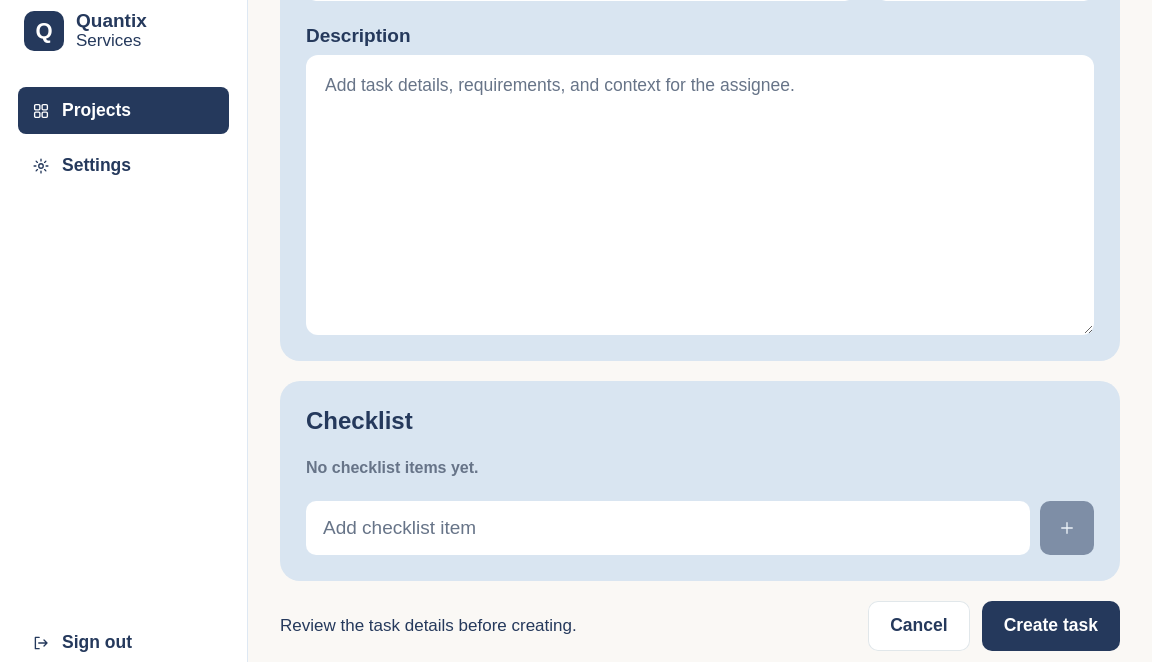
Test: Creating tasks › rejects missing required fields
(page scrolled)
Click the button "Create task" at (1051, 626), box top-left (982, 601), bottom-right (1120, 651)
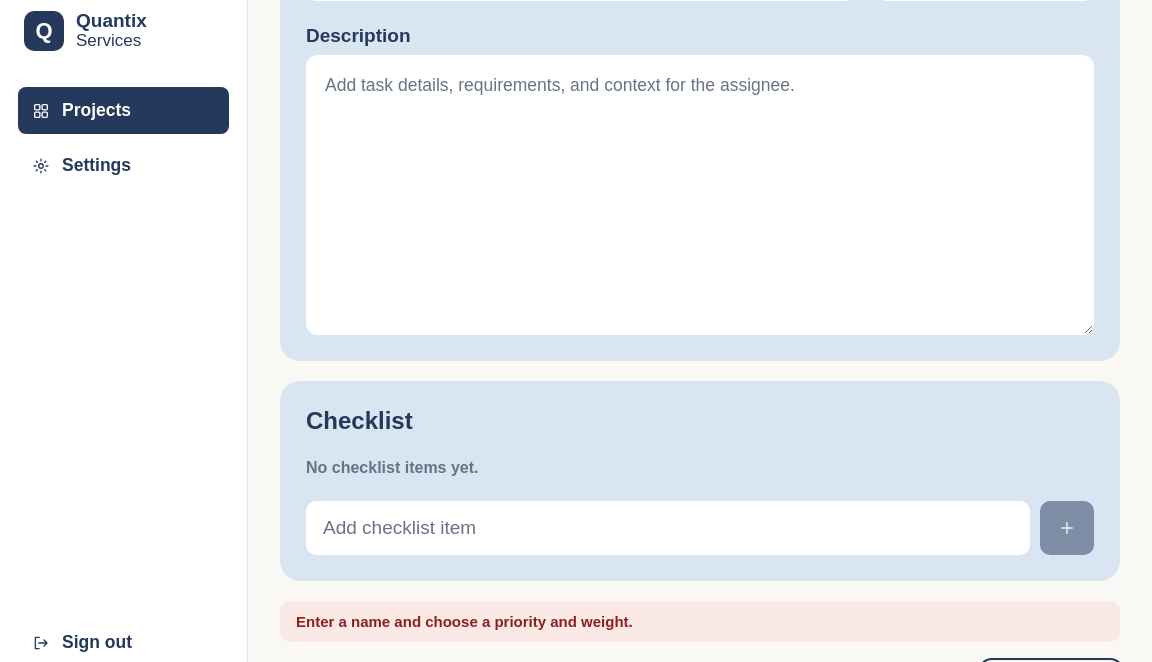
Result: the message reads "Enter a name and choose a priority and weight." at top-left (296, 613), bottom-right (633, 630)
